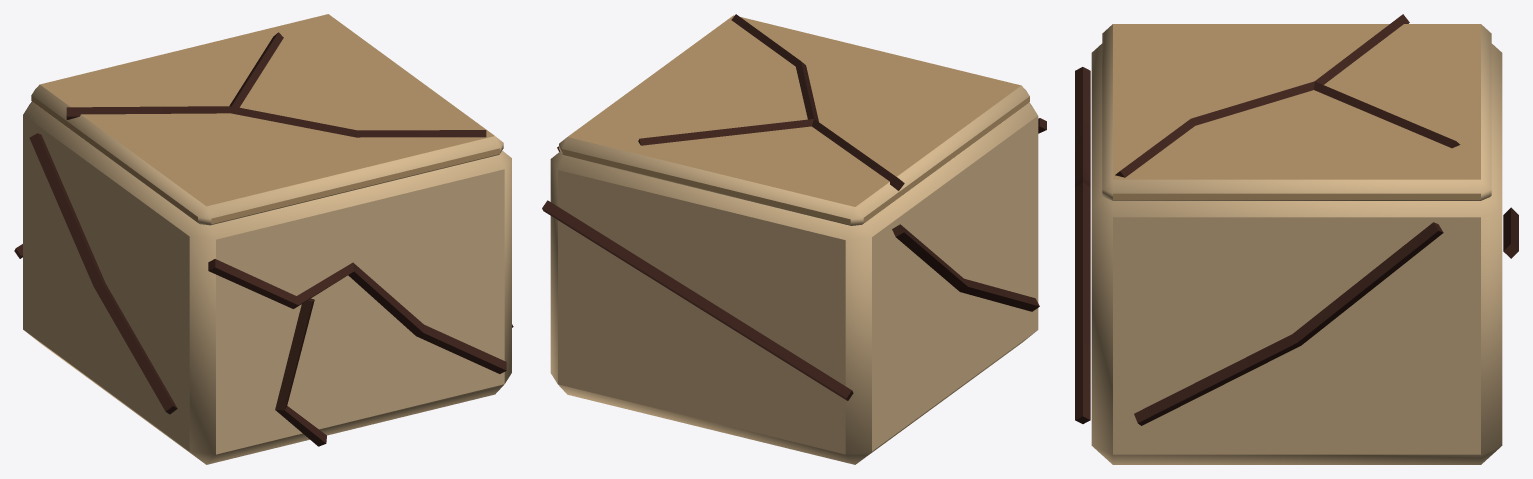
File: tide_block_cracked.glb
The picture shows the model from 3 angles, left to right: view 1: azimuth 30°, elevation 25°; view 2: azimuth 150°, elevation 25°; view 3: azimuth 270°, elevation 25°; orthographic projection. The views are drawn at different scales.
Parts seen in each view (by area): view 1: tide_block_cracked; view 2: tide_block_cracked; view 3: tide_block_cracked.
Boxes of the visible parts, left/top/right/bottom form: tide_block_cracked: left=14, top=14, right=513, bottom=464; tide_block_cracked: left=542, top=14, right=1046, bottom=464; tide_block_cracked: left=1075, top=14, right=1518, bottom=464.
Bounding box in the file's own units: 1.25 × 0.907 × 1.25.
